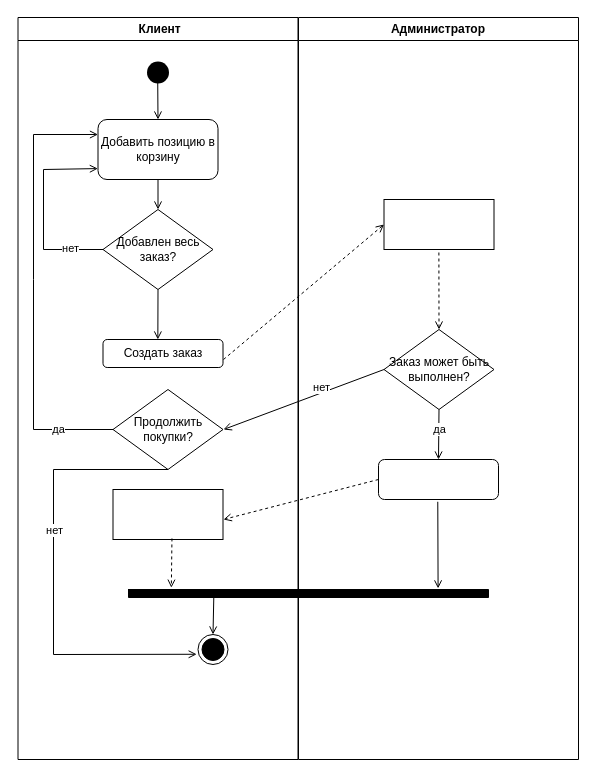
This 596x777 diagram has some shape labels left out. Each missing label, with the box of its shape:
Заказ [подтвержден]: (112, 488, 223, 540)
Заказ [создан]: (383, 198, 494, 250)
Оформить заказ: (378, 458, 498, 500)
